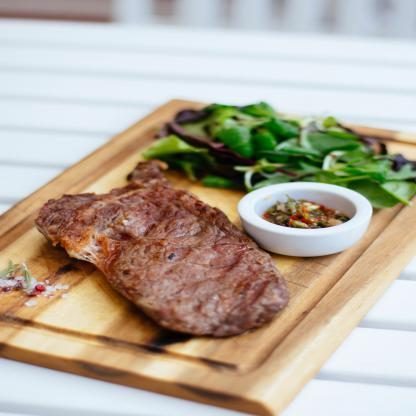Carne: (34, 159, 288, 340)
